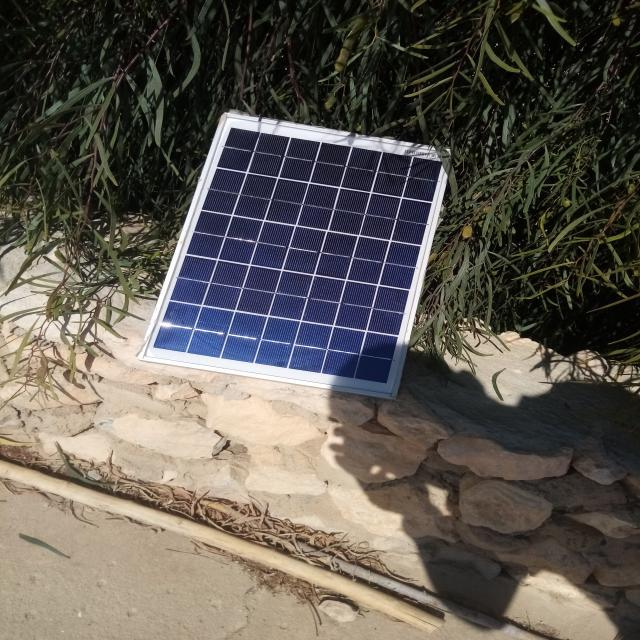no faulty: (140, 114, 446, 397)
